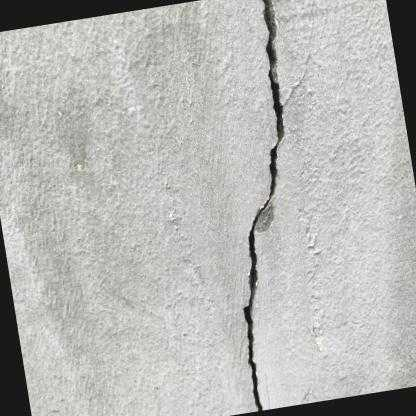crack: (239, 0, 287, 411)
